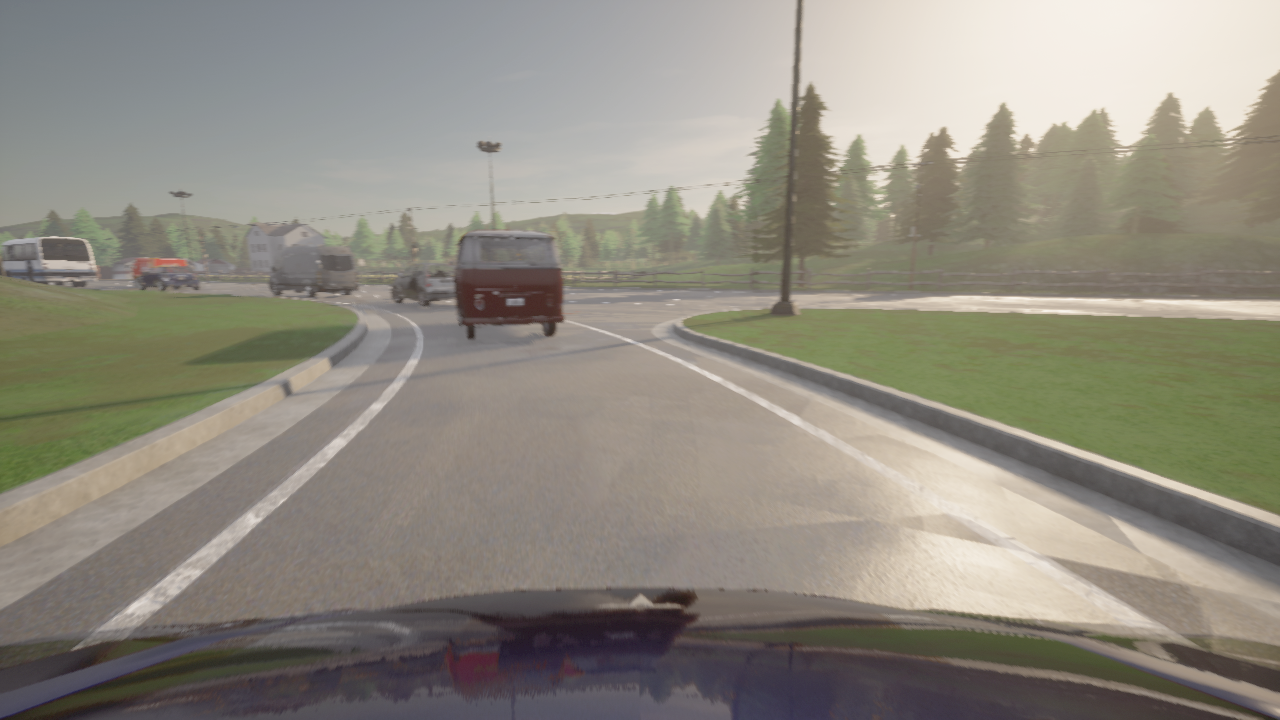cyclist: (0, 588, 1279, 719), (449, 230, 563, 340), (2, 237, 96, 286), (269, 246, 357, 297), (391, 263, 454, 306), (126, 258, 186, 287), (136, 265, 200, 291), (187, 266, 196, 275)
